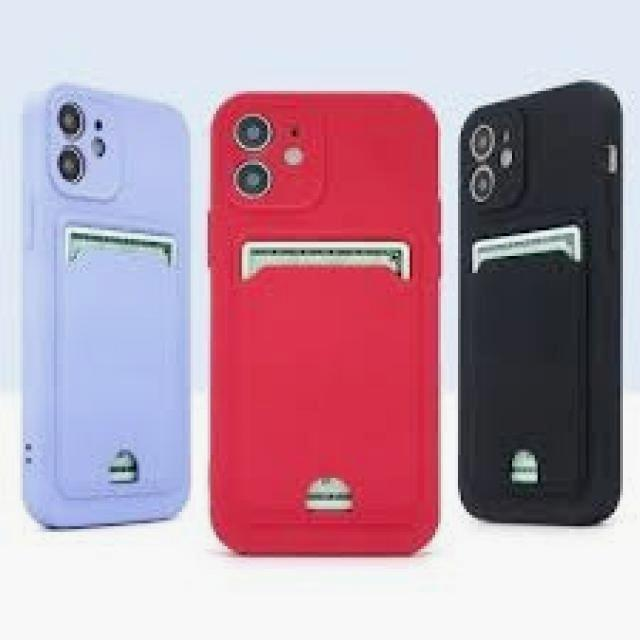lens: (230, 111, 318, 204), (55, 93, 112, 189), (467, 122, 518, 201)
phone: (206, 85, 446, 559), (18, 86, 197, 535), (462, 80, 618, 535)
